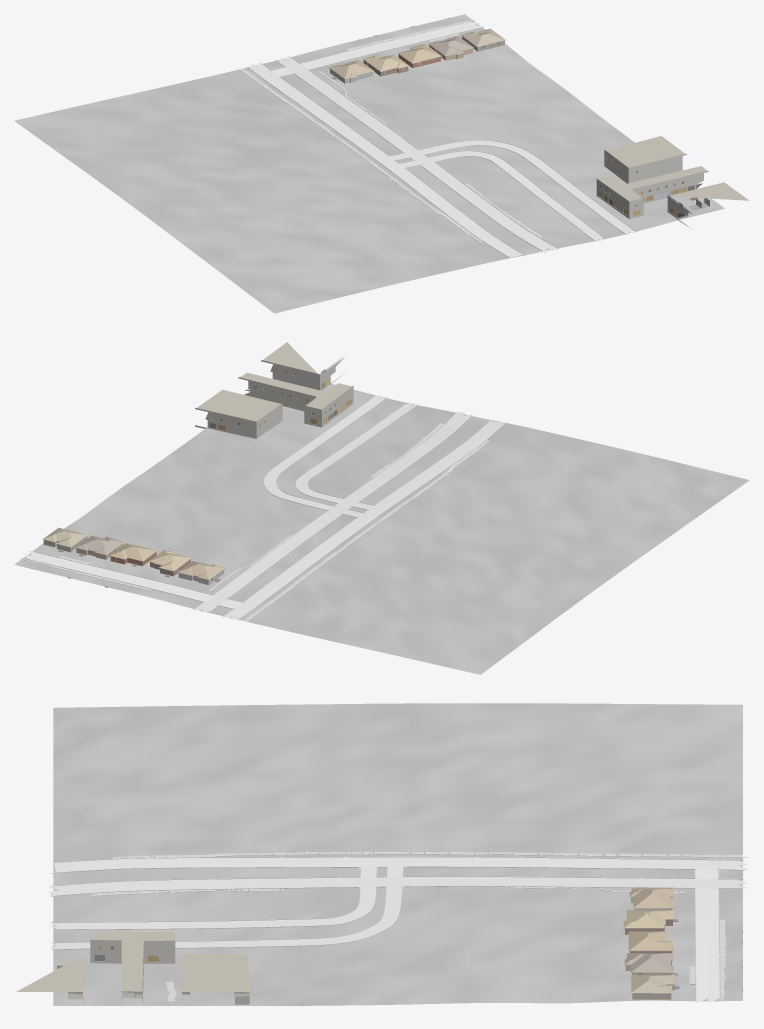
3 renders of one model, top to bottom at view 1: azimuth 30°, elevation 25°; view 2: azimuth 150°, elevation 25°; view 3: azimuth 270°, elevation 25°, orthographic. The views are drawn at different scales.
Visible parts, largest first — view 1: ground, asphalt, concrete, wall_com, roof_flat, curb, roof, walk, wall; view 2: ground, asphalt, concrete, wall_com, roof_flat, curb, roof, walk, wall; view 3: ground, asphalt, concrete, roof_flat, curb, roof, walk, wall_com, mark_w, wall, mark_y, room.
Part boxes in pixels (box(x1,y1,x2,y2)): ground: box(14, 14, 724, 313); asphalt: box(250, 56, 557, 257); concrete: box(272, 22, 635, 241); wall_com: box(596, 150, 708, 227); roof_flat: box(598, 136, 749, 201); curb: box(246, 20, 636, 257); roof: box(329, 28, 505, 78); walk: box(239, 19, 542, 242); wall: box(363, 36, 504, 76); ground: box(14, 383, 749, 674); asphalt: box(193, 412, 504, 619); concrete: box(24, 395, 418, 608); wall_com: box(195, 357, 353, 438); roof_flat: box(197, 342, 351, 421); curb: box(20, 395, 505, 621); roof: box(43, 527, 224, 579); walk: box(21, 423, 489, 621); wall: box(43, 536, 190, 576); ground: box(53, 703, 742, 1005); asphalt: box(48, 857, 748, 895); concrete: box(50, 867, 719, 1002); roof_flat: box(16, 931, 250, 992); curb: box(50, 854, 747, 1000); roof: box(623, 888, 675, 993); walk: box(91, 851, 742, 1001); wall_com: box(90, 939, 175, 1001); mark_w: box(51, 857, 744, 895); wall: box(625, 919, 674, 999); mark_y: box(54, 866, 738, 886); room: box(57, 919, 659, 1004).
Bounding box in the file's own units: 256 × 9.73 × 267.
